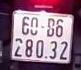0: (35, 38, 45, 59), (31, 16, 39, 37)
2: (13, 36, 23, 58), (59, 40, 69, 62)
3: (49, 40, 57, 61)
6: (20, 14, 30, 35), (56, 17, 65, 39)
8: (24, 37, 33, 58)
B: (47, 16, 55, 38)
